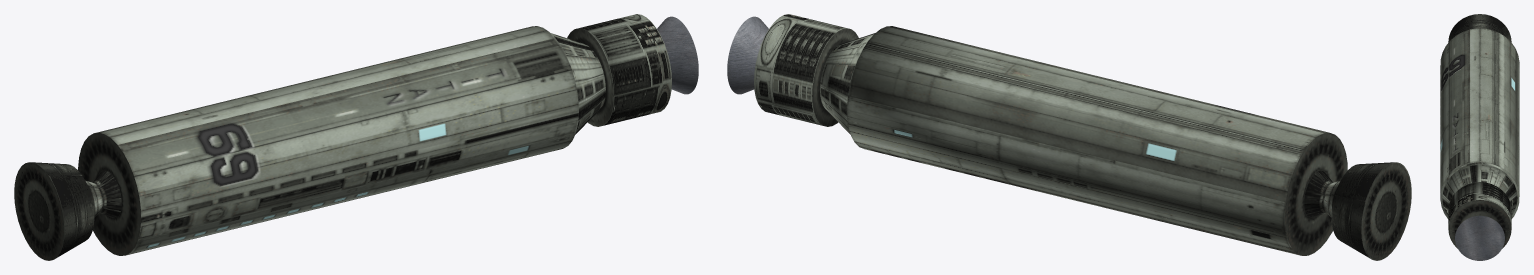
File: silents_textured.glb
3 renders of one model, left to right at view 1: azimuth 30°, elevation 25°; view 2: azimuth 150°, elevation 25°; view 3: azimuth 270°, elevation 25°, orthographic. The views are drawn at different scales.
Parts seen in each view (by area): view 1: Cone, Cylinder, Cylinder.001, Cone.002, Cylinder.002; view 2: Cone, Cylinder, Cylinder.001, Cone.002, Cylinder.002; view 3: Cone, Cylinder.001, Cylinder.002, Cone.002, Cylinder.
Part boxes in pixels (left/top/right/bottom): Cone: left=78, top=26, right=578, bottom=255; Cylinder: left=14, top=162, right=121, bottom=260; Cylinder.001: left=567, top=14, right=671, bottom=126; Cone.002: left=551, top=33, right=605, bottom=134; Cylinder.002: left=657, top=16, right=698, bottom=94; Cone: left=847, top=26, right=1347, bottom=255; Cylinder: left=1304, top=162, right=1411, bottom=260; Cylinder.001: left=754, top=14, right=858, bottom=126; Cone.002: left=820, top=33, right=874, bottom=134; Cylinder.002: left=727, top=16, right=768, bottom=94; Cone: left=1440, top=28, right=1519, bottom=218; Cylinder.001: left=1448, top=182, right=1511, bottom=248; Cylinder.002: left=1455, top=215, right=1504, bottom=260; Cone.002: left=1442, top=164, right=1517, bottom=215; Cylinder: left=1448, top=14, right=1511, bottom=42.
Size of the model in its own units: 14.61 by 2.5 by 2.5.
2 materials, 2 textured.
